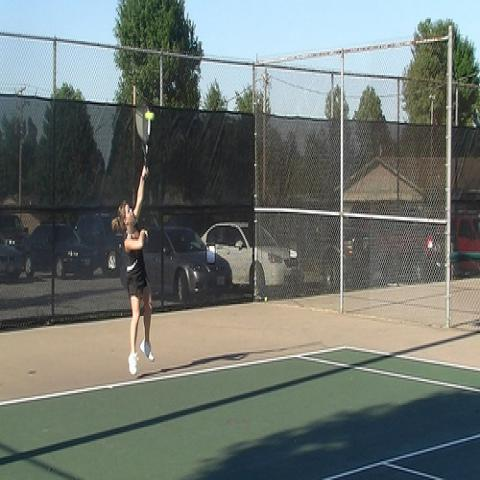car: (248, 191, 376, 274), (200, 221, 307, 296), (141, 224, 229, 302), (24, 220, 99, 284), (75, 214, 123, 278), (450, 212, 479, 283), (2, 213, 30, 252), (0, 235, 24, 279)
